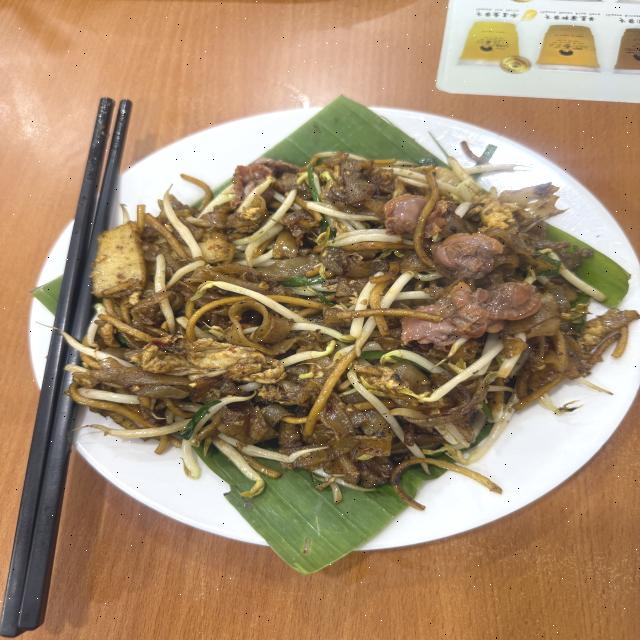Char Kway Teow: (50, 123, 595, 527)
